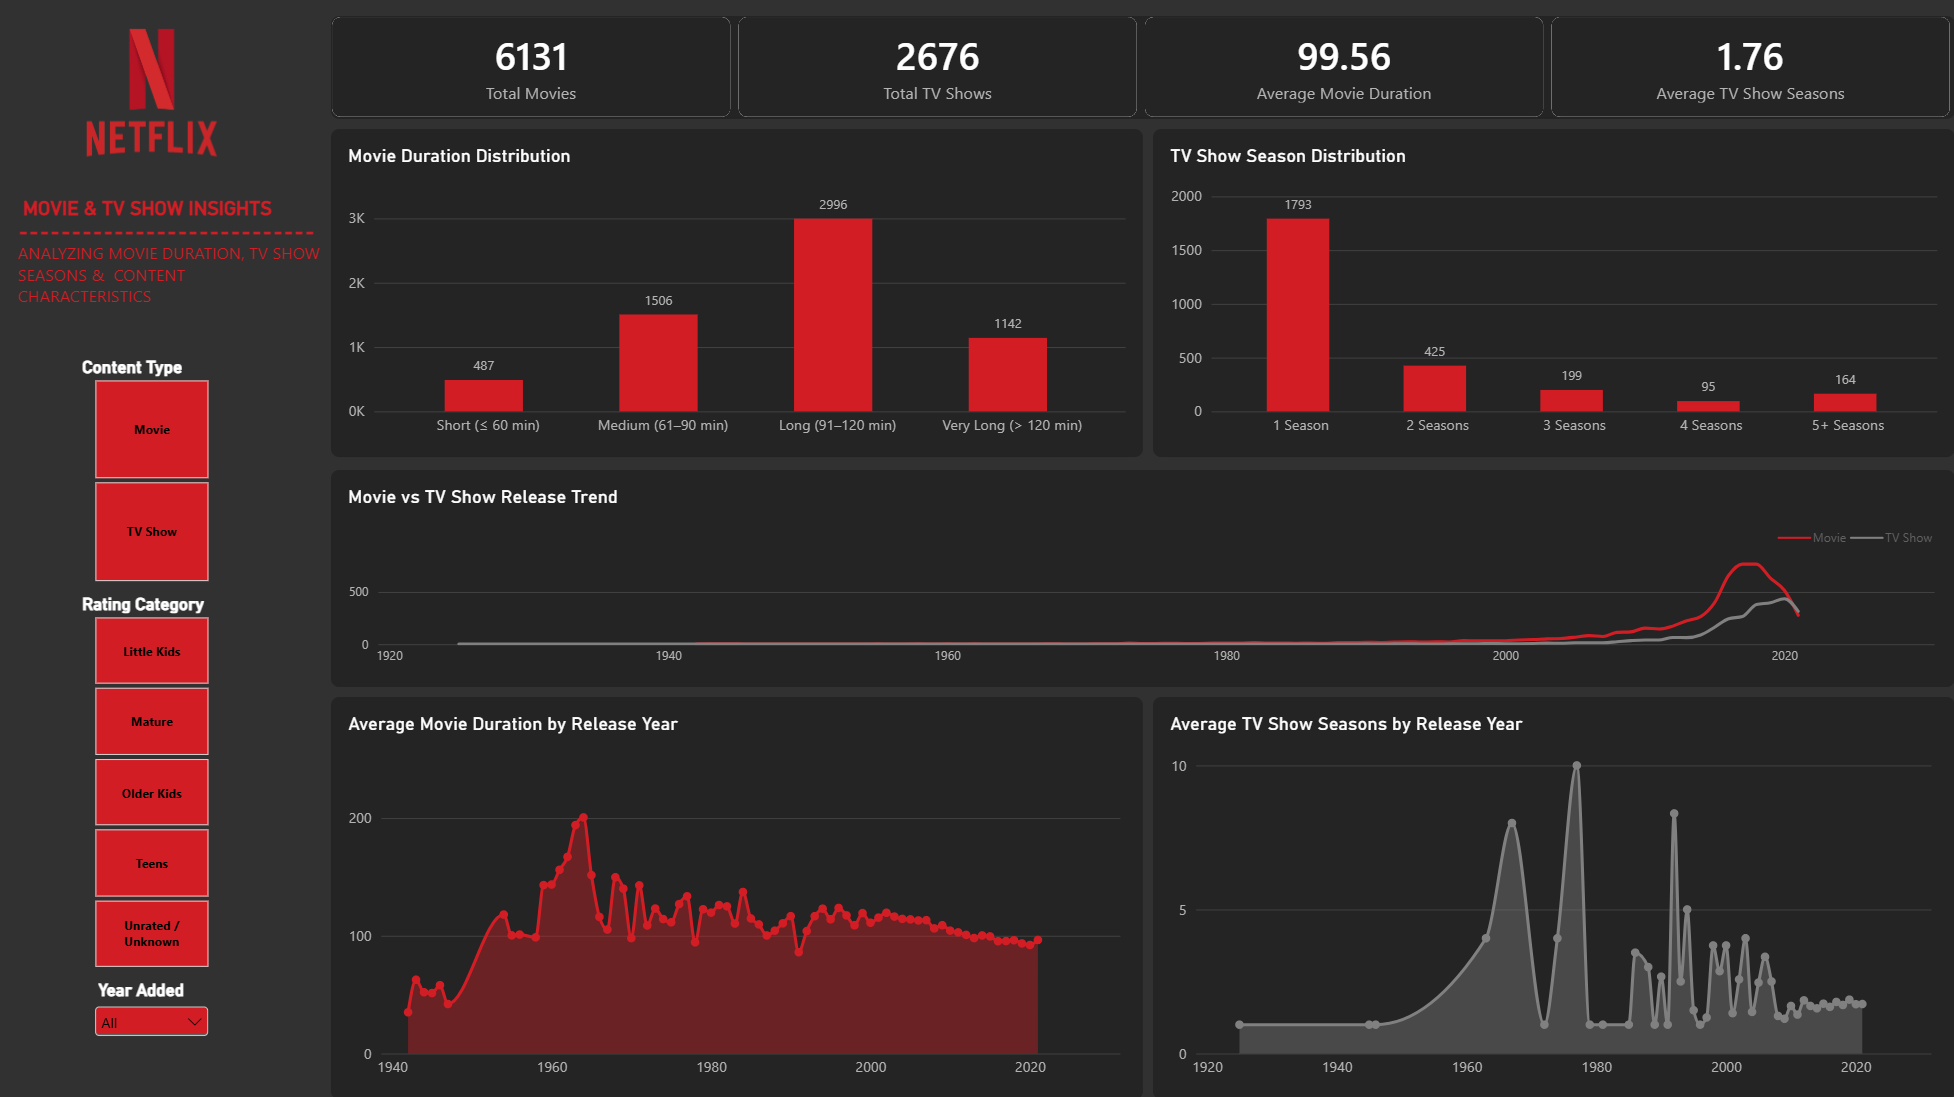

What the dashboard file says about the page in this screenshot:
{"tool":"powerbi","page":{"name":"04 - Movie & TV Show Insights","canvas":[1920,1080],"ordinal":3},"visuals":[{"type":"cardVisual","fields":{"Data":["data_measures.Total Movies","data_measures.Total TV Shows","data_measures.Average Movie Duration","data_measures.Average TV Show Seasons"]},"box":[326.4,17.1,1593.6,100.6],"z":0},{"type":"clusteredColumnChart","title":"TV Show Season Distribution","fields":{"Category":["netflix_main.TV Show Season Category"],"Y":["data_measures.TV Shows by Season Category"]},"box":[1133.4,127.4,786.6,322.1],"z":1000},{"type":"clusteredColumnChart","title":"Movie Duration Distribution","fields":{"Category":["netflix_main.Movie Duration Category"],"Y":["data_measures.Total Movies"]},"box":[326.4,127.4,797.3,322.1],"z":2000},{"type":"lineChart","title":"Movie vs TV Show Release Trend","fields":{"Category":["netflix_main.release_year"],"Series":["netflix_main.type"],"Y":["data_measures.Total Titles"]},"box":[326.4,462.3,1593.6,213],"z":3000},{"type":"lineChart","title":"Average Movie Duration by Release Year","fields":{"Category":["netflix_main.release_year"],"Y":["data_measures.Average Movie Duration"]},"box":[326.4,684.9,797.3,394.9],"z":3001},{"type":"lineChart","title":"Average TV Show Seasons by Release Year","fields":{"Category":["netflix_main.release_year"],"Y":["data_measures.Average TV Show Seasons"]},"box":[1133.4,684.9,786.6,394.9],"z":3002},{"type":"slicer","fields":{"Values":["netflix_main.type"]},"box":[74.9,351,150.9,221.5],"z":3003},{"type":"slicer","fields":{"Values":["netflix_main.Rating Category"]},"box":[74.9,584.3,150.9,368.2],"z":3004},{"type":"slicer","fields":{"Values":["DimDate.Year"]},"box":[89.9,963.2,120.9,97.4],"z":3005},{"type":"image","box":[1.1,0,299.7,184.1],"z":3006},{"type":"textbox","box":[19.3,194.8,298.6,142.3],"z":3007}]}

Visuals, with their boxes in screenshot pixels (x1, y1, x2, y2), scaled from the page's 1920x1080 canvas onto the 1954x1097 screenshot:
cardVisual - data_measures.Total Movies x data_measures.Total TV Shows: [332, 17, 1953, 120]
"TV Show Season Distribution" clusteredColumnChart: [1153, 129, 1953, 457]
"Movie Duration Distribution" clusteredColumnChart: [332, 129, 1144, 457]
"Movie vs TV Show Release Trend" lineChart: [332, 470, 1953, 686]
"Average Movie Duration by Release Year" lineChart: [332, 696, 1144, 1096]
"Average TV Show Seasons by Release Year" lineChart: [1153, 696, 1953, 1096]
slicer - netflix_main.type: [76, 357, 230, 582]
slicer - netflix_main.Rating Category: [76, 593, 230, 967]
slicer - DimDate.Year: [91, 978, 215, 1077]
image: [1, 0, 306, 187]
textbox: [20, 198, 324, 342]
